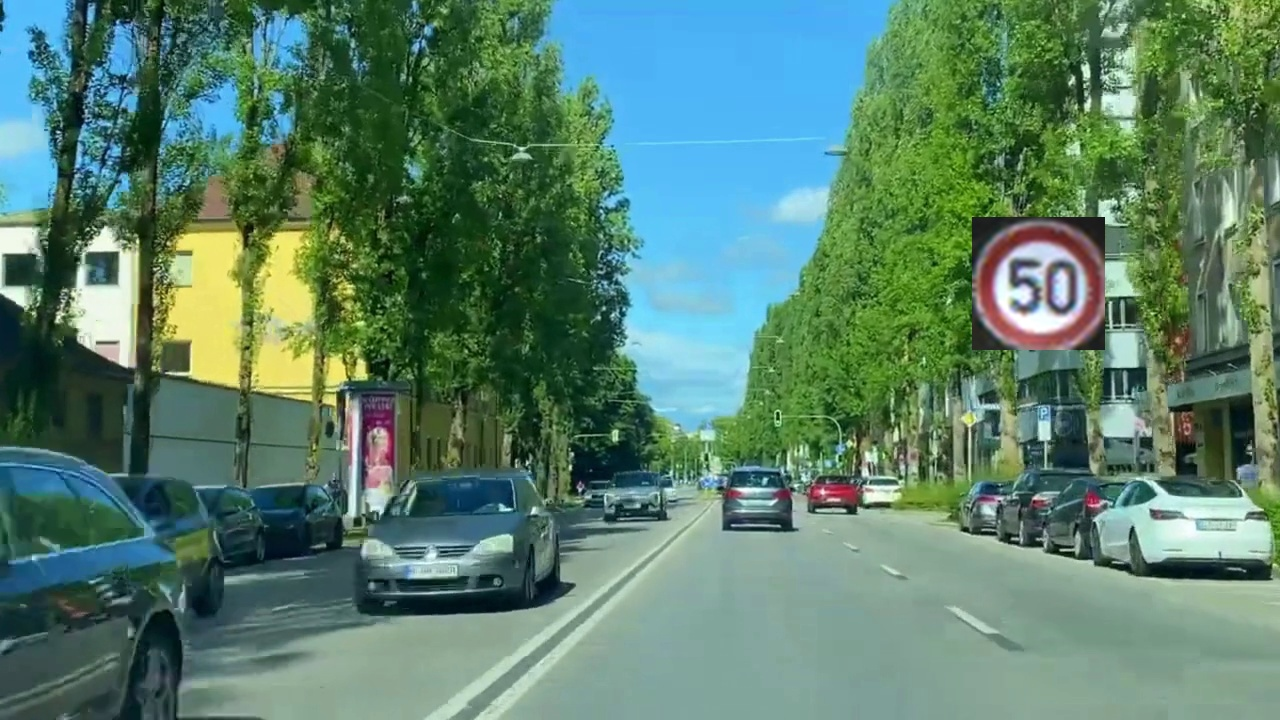Speed 50: (972, 217, 1105, 350)
